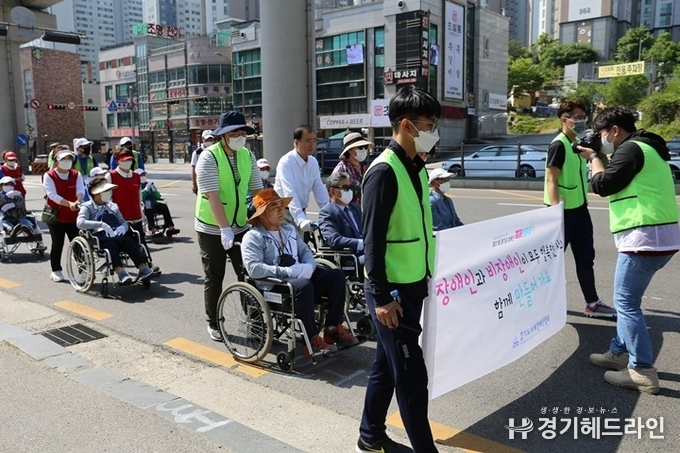wheelchair: (218, 189, 359, 374), (68, 178, 162, 298)
